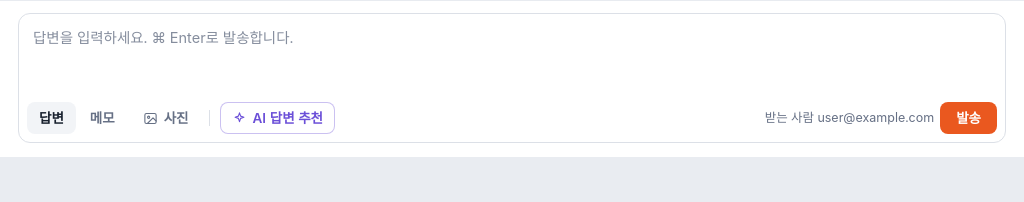
Test: ReplyComposer › reply mode › warns when the mail went out but the record could not be saved
The width and height of the screenshot is (1024, 202).
Type "보냅니다" into the text box named "답변 내용".
click(512, 58); type("보냅니다")  # box [19, 14, 1005, 102]
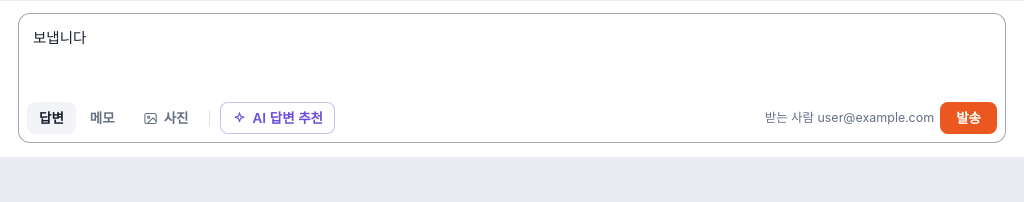
Click the button "발송".
click(969, 118)  # box [940, 102, 997, 134]
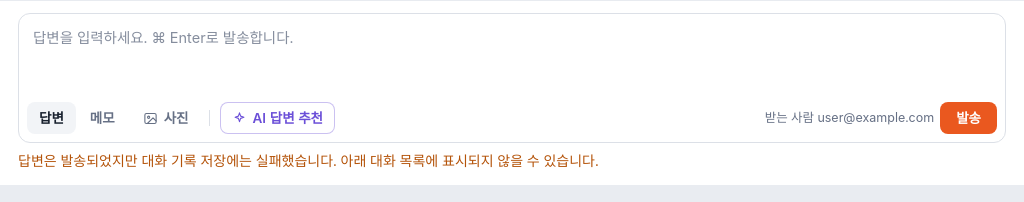
Expected: the text "답변은 발송되었지만 대화 기록 저장에는 실패했습니다. 아래 대화 목록에 표시되지 않을 수 있습니다." is shown, [18, 152, 599, 169]
